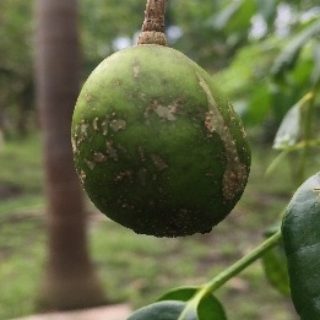coc: (71, 44, 251, 236)
